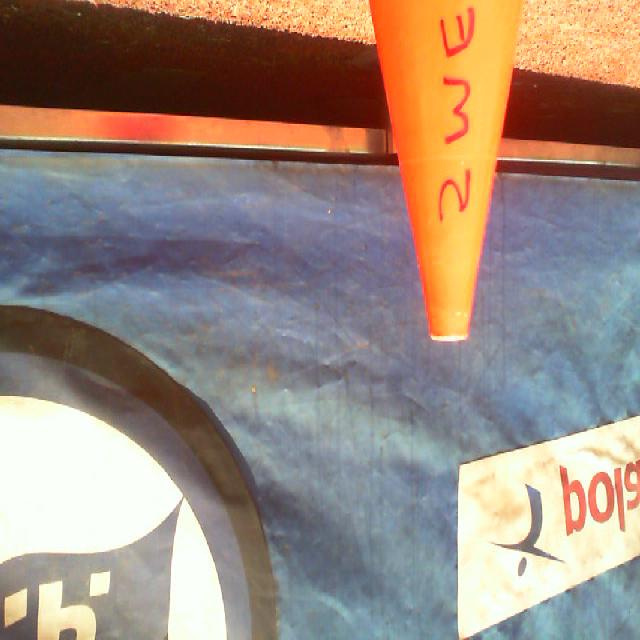cone: (369, 0, 523, 340)
